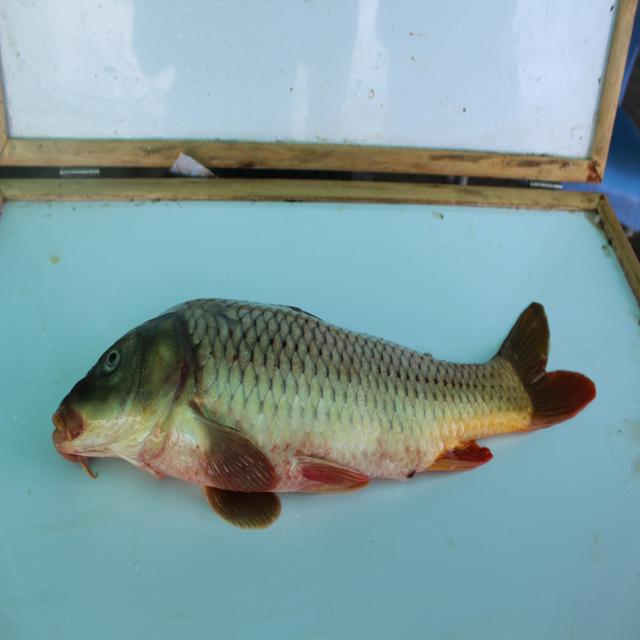CommonCarp: (44, 271, 605, 551)
